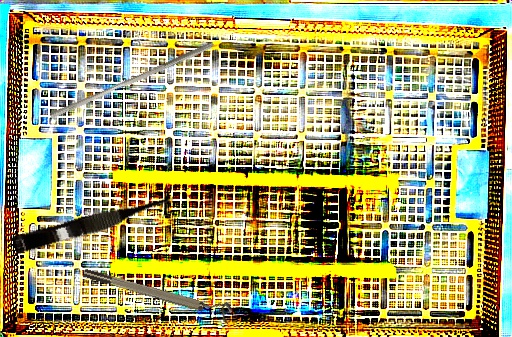Fixation Ring: (82, 260, 234, 324)
Micro Scissor: (11, 190, 179, 258)
Pusher: (48, 34, 216, 126)
